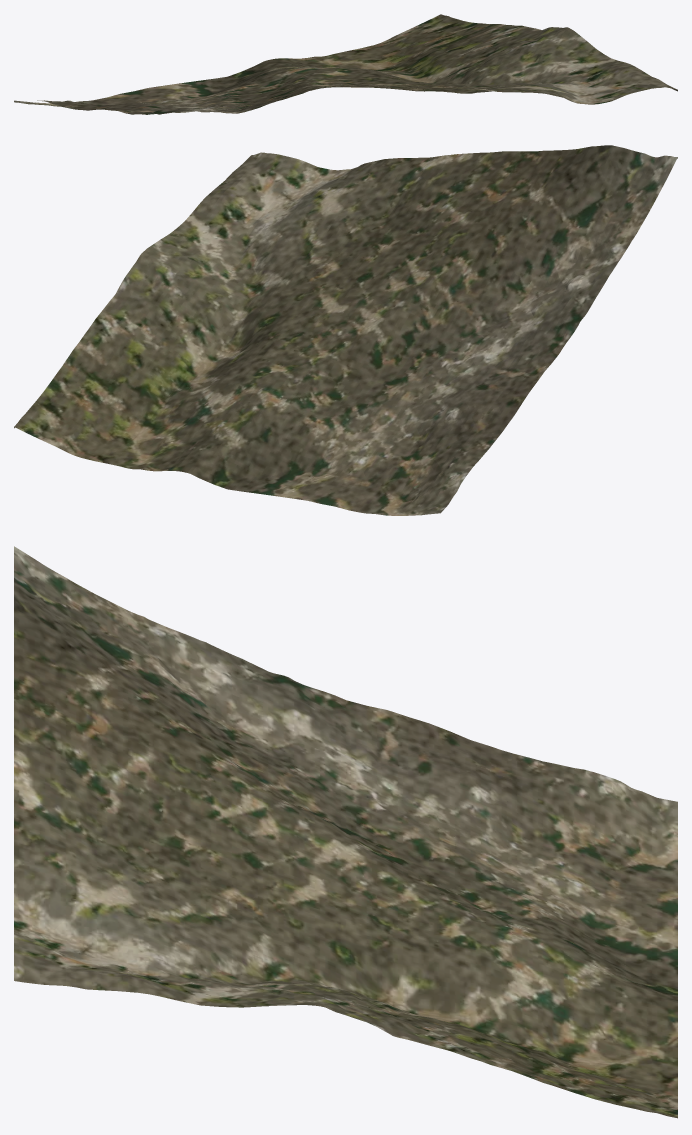
3 views of the same model, one above another, from view 1: azimuth 30°, elevation 25°; view 2: azimuth 150°, elevation 25°; view 3: azimuth 270°, elevation 25° (orthographic). The views are drawn at different scales.
Size of the model in its own units: 250 by 121 by 241.
Materials: 1 (1 with a texture image).
